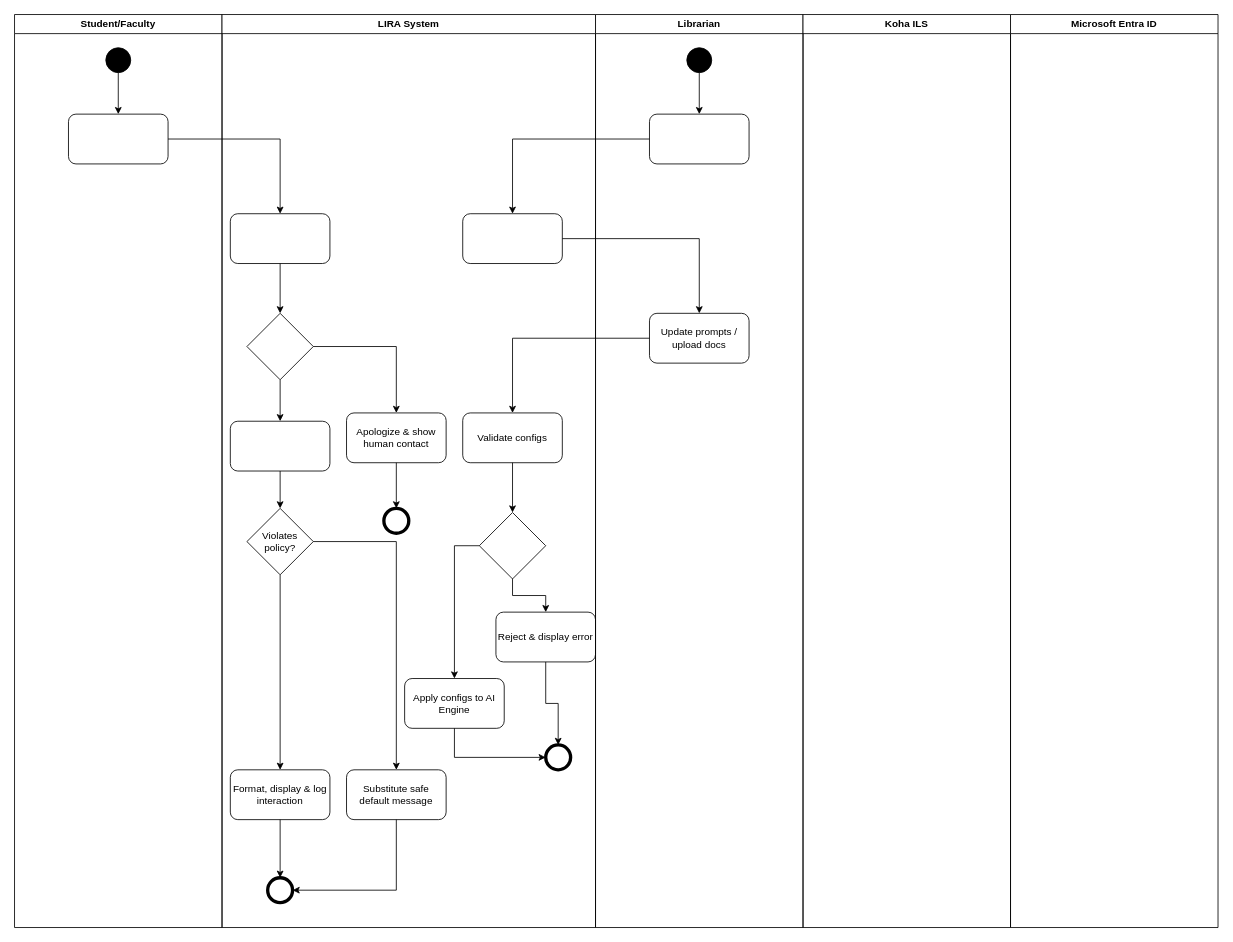
The diagram is 1233 pixels wide and 942 high, and some of its shapes have lost their labels. Each missing label, with the centre of its shape:
Access config panel: the point at 699,138
AI Timeout?: the point at 279,346
Compatible?: the point at 512,545
Display current sources & settings: the point at 512,238
Generate synthesized response: the point at 279,445
Parse & route to AI Engine: the point at 279,238
Submit question: the point at 118,138
